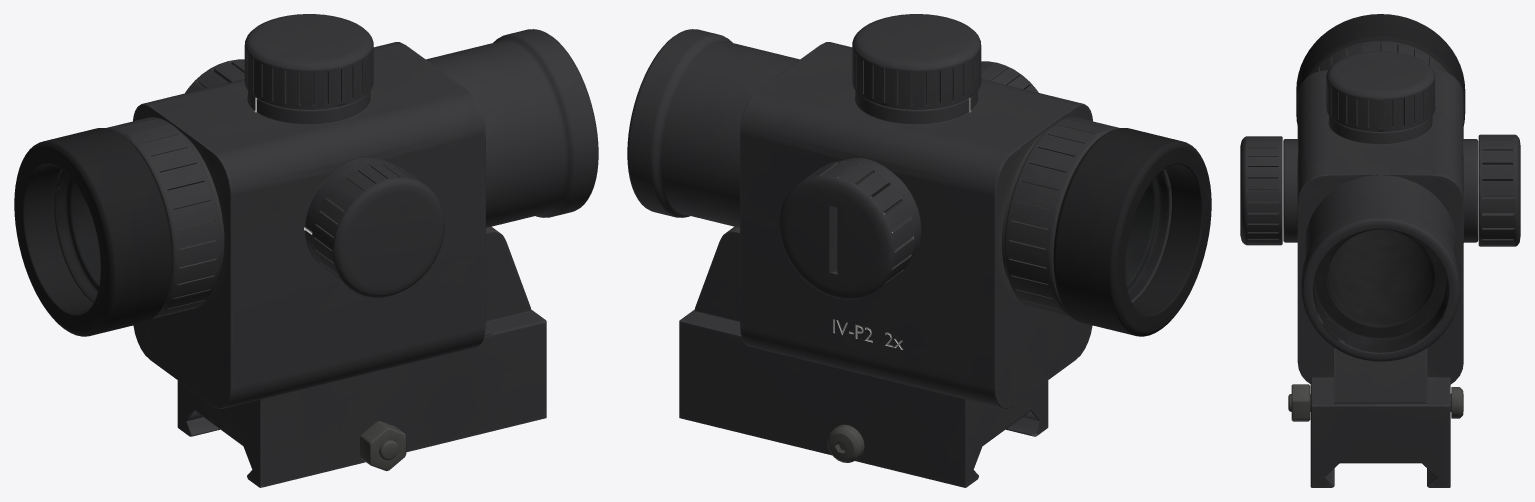
The model's file is IVP2_Prism.glb.
3 views of the same model, side by side, from view 1: azimuth 30°, elevation 25°; view 2: azimuth 150°, elevation 25°; view 3: azimuth 270°, elevation 25° (orthographic). The views are drawn at different scales.
Visible parts, largest first — view 1: SM_IVP2_Prism; view 2: SM_IVP2_Prism; view 3: SM_IVP2_Prism.
Part boxes in pixels (x1,y1,x2,y2): SM_IVP2_Prism: [14, 14, 598, 487]; SM_IVP2_Prism: [627, 14, 1211, 487]; SM_IVP2_Prism: [1240, 14, 1520, 487].
Bounding box in the file's own units: 0.0925 × 0.0722 × 0.0541.
Materials: 4 (2 with a texture image).
